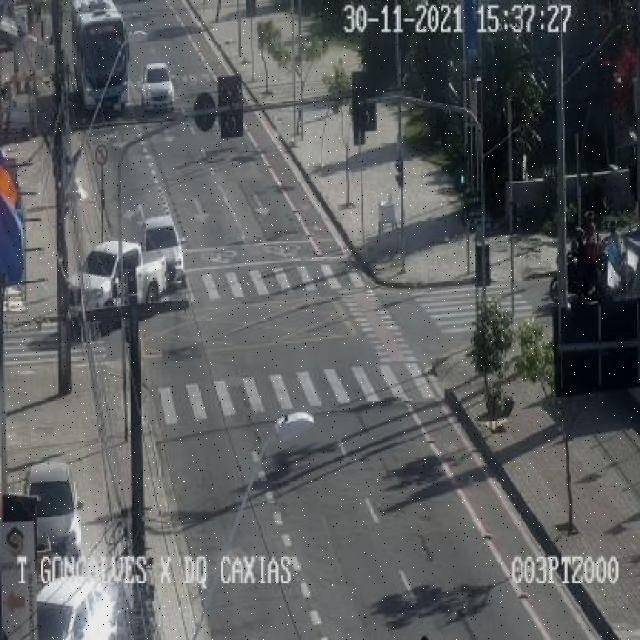Bus: (70, 2, 129, 115)
Car: (36, 575, 142, 637), (24, 462, 84, 561), (139, 213, 185, 287), (140, 62, 174, 114)
Cycle: (552, 251, 607, 302)
Truck: (68, 239, 168, 323)
